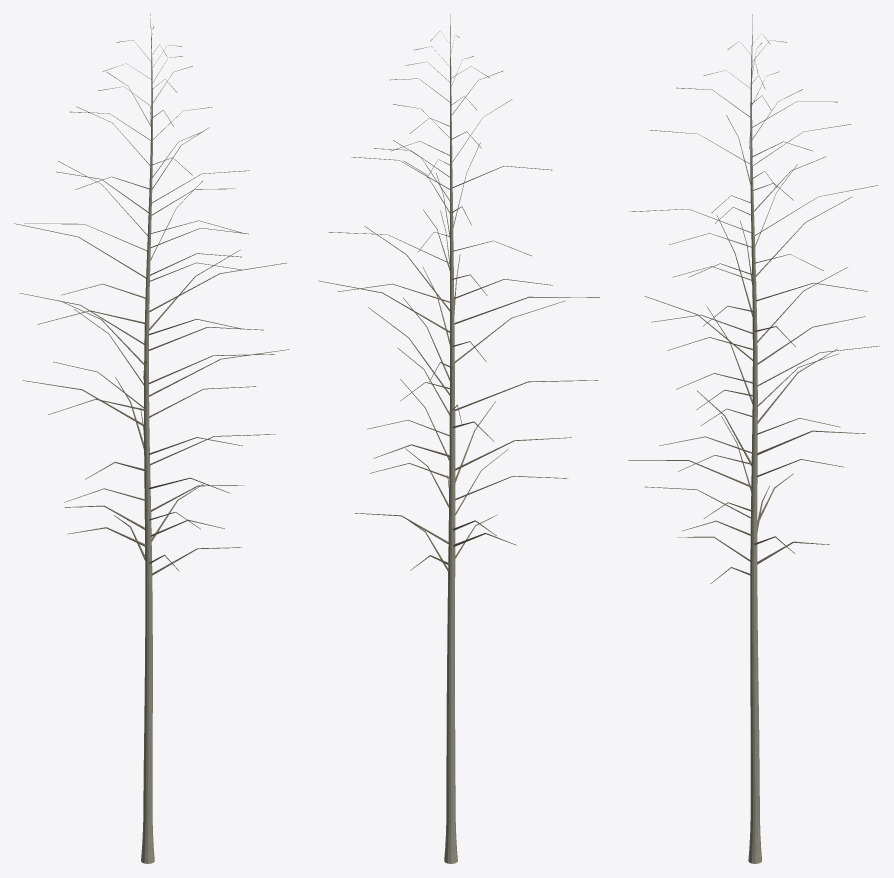
3 views of the same model, side by side, from view 1: azimuth 30°, elevation 25°; view 2: azimuth 150°, elevation 25°; view 3: azimuth 270°, elevation 25° (orthographic).
Parts seen in each view (by area): view 1: tree_node; view 2: tree_node; view 3: tree_node.
Part boxes in pixels (<box>): tree_node: <box>14,14,289,863</box>; tree_node: <box>318,14,599,863</box>; tree_node: <box>628,14,879,863</box>.
Size of the model in its own units: 6.6 by 5.91 by 22.
